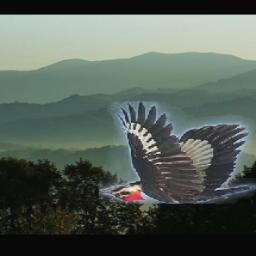Woodpecker: (99, 102, 256, 204)
